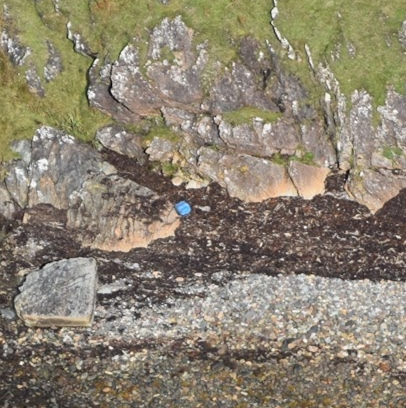white_in_green: (161, 184, 204, 227)
